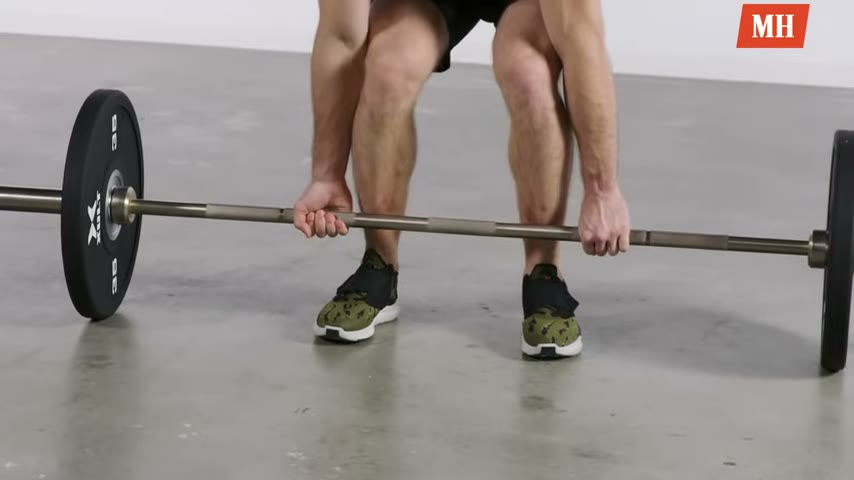barbell_plate_side: (49, 85, 150, 353)
